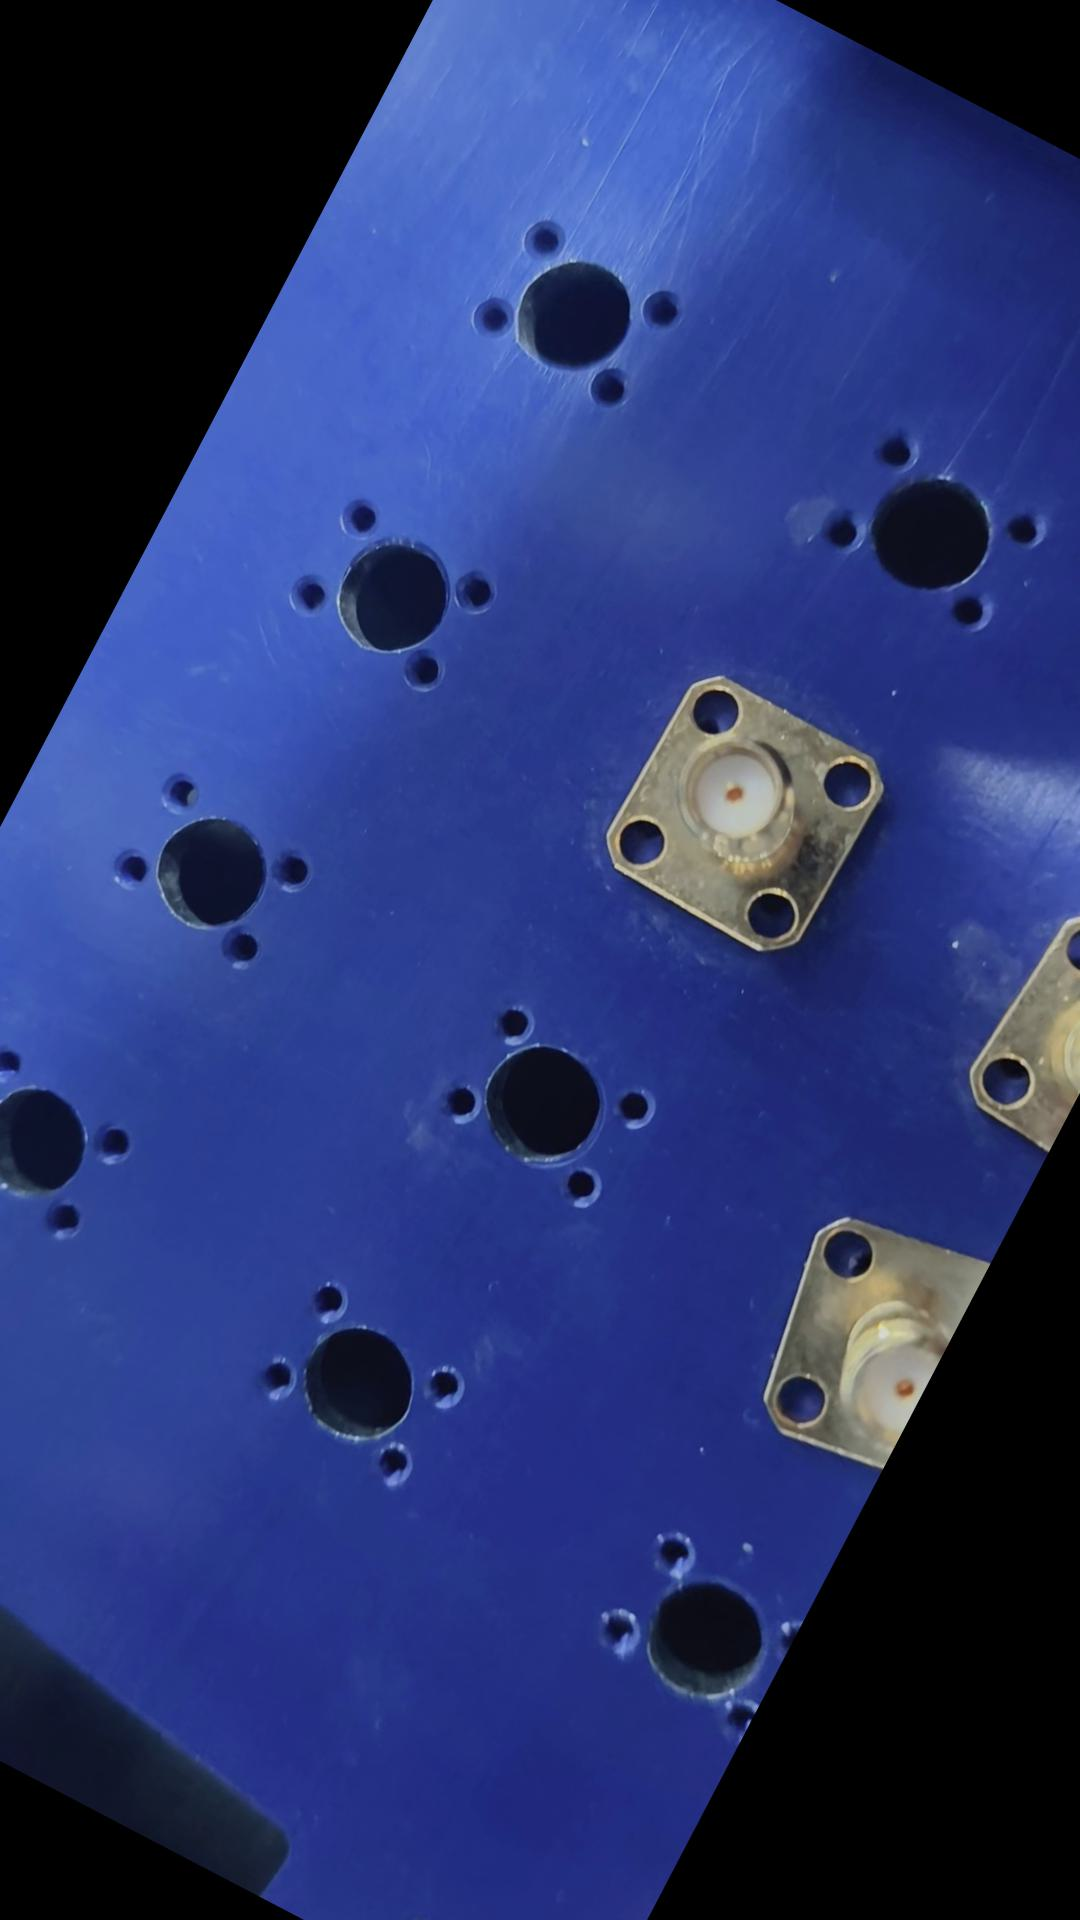SMA: (582, 659, 901, 975)
